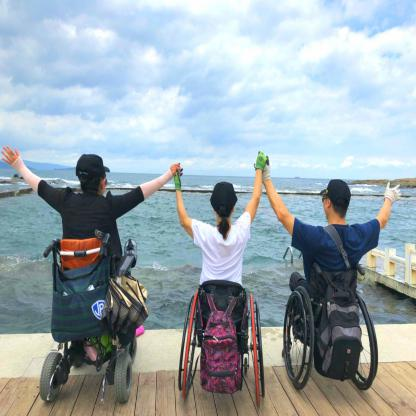wheelchair: (3, 126, 175, 404), (252, 142, 396, 395), (158, 149, 275, 406)
